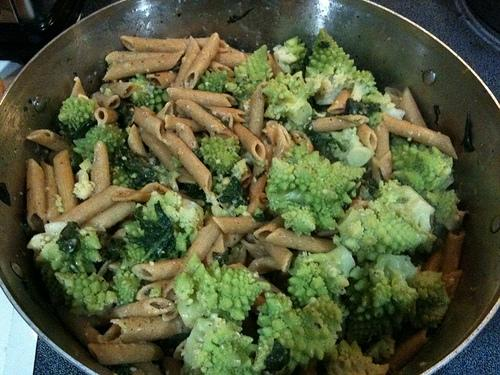broccoli: (265, 139, 366, 237), (346, 255, 450, 346), (390, 136, 467, 236), (249, 292, 344, 372), (173, 252, 271, 328), (368, 180, 438, 257), (178, 312, 262, 375), (122, 190, 190, 262), (287, 244, 356, 311), (261, 71, 321, 125), (224, 45, 274, 101), (55, 271, 116, 316), (310, 127, 375, 168), (305, 27, 357, 78), (74, 122, 128, 164), (327, 339, 389, 375), (125, 73, 169, 114), (200, 136, 242, 176), (57, 97, 98, 132), (108, 268, 146, 304), (273, 36, 309, 74), (218, 176, 250, 217), (176, 198, 204, 244), (195, 68, 233, 94), (119, 237, 148, 271), (348, 70, 378, 102), (391, 321, 422, 350), (40, 242, 68, 270), (344, 98, 383, 118), (356, 177, 380, 201), (230, 242, 241, 259)
